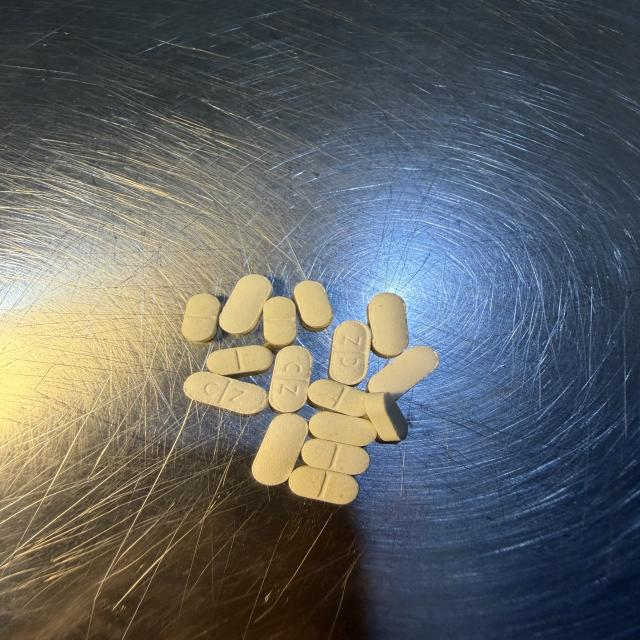pill: (252, 414, 307, 485), (367, 346, 438, 399), (184, 372, 267, 415), (220, 275, 272, 335), (269, 346, 312, 412), (329, 321, 371, 385), (367, 293, 408, 357), (289, 466, 358, 504), (302, 439, 369, 475), (309, 412, 376, 446), (308, 380, 365, 416), (366, 393, 407, 442), (293, 281, 333, 331), (207, 346, 273, 376), (182, 294, 221, 342), (264, 297, 296, 349)
